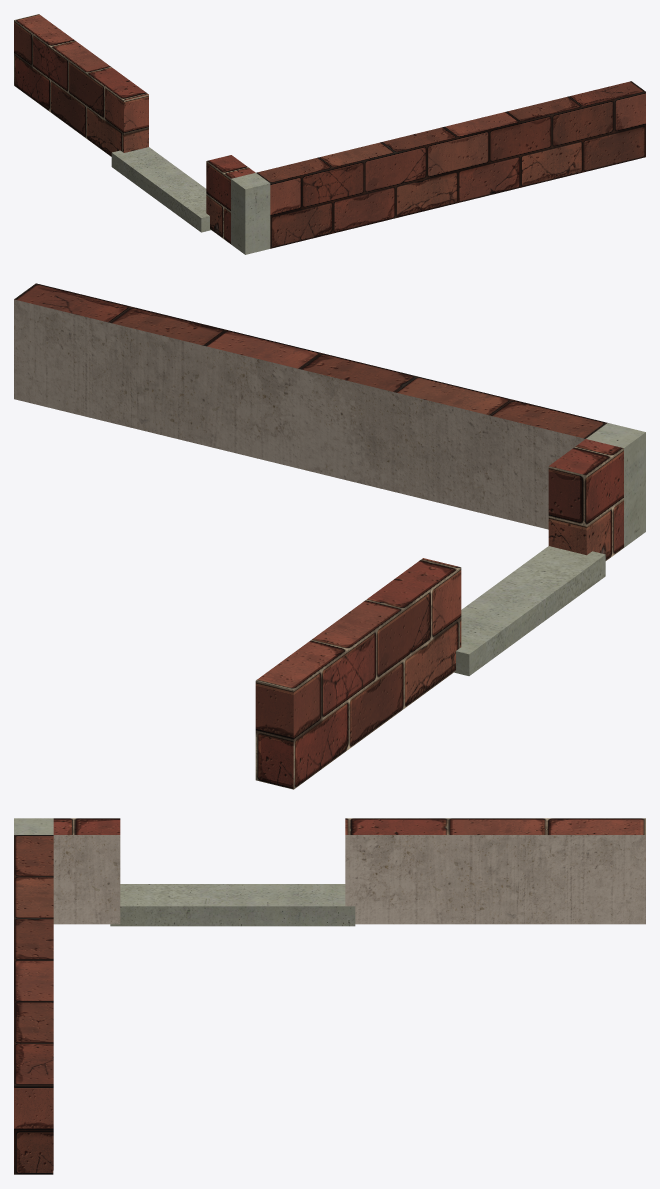
File: roof04_cornerGap02.fbx
3 renders of one model, top to bottom at view 1: azimuth 30°, elevation 25°; view 2: azimuth 150°, elevation 25°; view 3: azimuth 270°, elevation 25°, orthographic. The views are drawn at different scales.
Parts seen in each view (by area): view 1: roof04_cornerGap02; view 2: roof04_cornerGap02; view 3: roof04_cornerGap02.
Boxes of the visible parts, bbox=[...] form: roof04_cornerGap02: bbox=[14, 14, 645, 254]; roof04_cornerGap02: bbox=[14, 283, 645, 789]; roof04_cornerGap02: bbox=[14, 818, 645, 1174].
Bounding box in the file's own units: 327 × 51 × 320.
